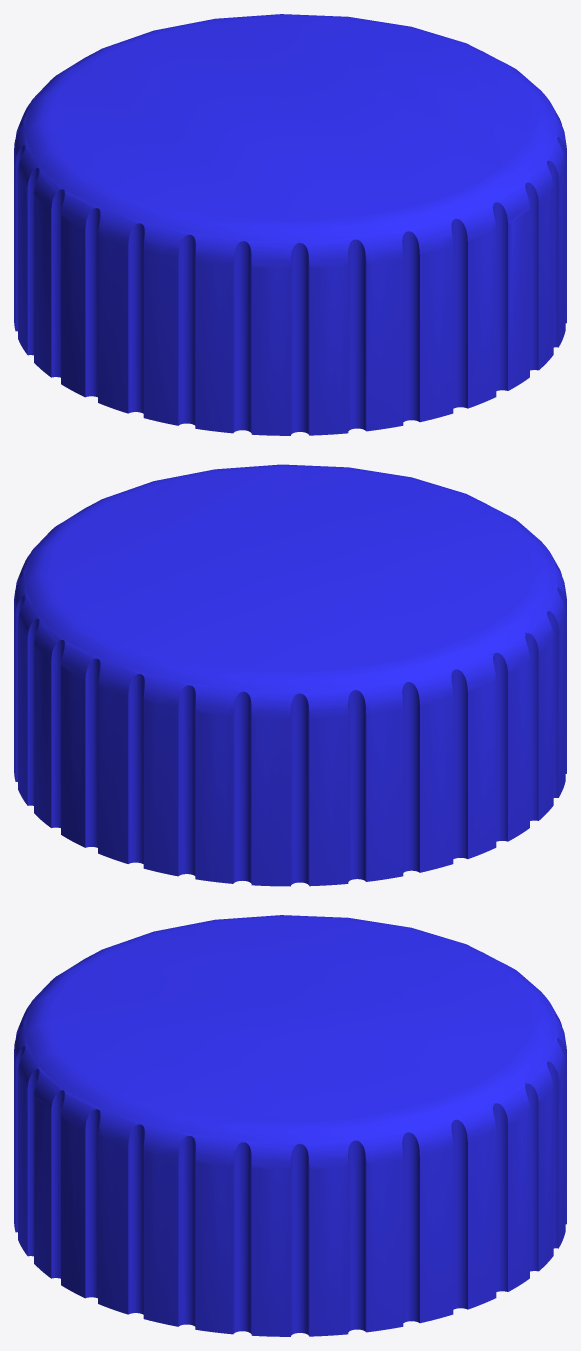
Rendered from cap.obj.
The picture shows the model from 3 angles, top to bottom: view 1: azimuth 30°, elevation 25°; view 2: azimuth 150°, elevation 25°; view 3: azimuth 270°, elevation 25°; orthographic projection.
Visible parts, largest first — view 1: Grupo_2/mesh626/mesh626-geometry#mesh626-geometry; view 2: Grupo_2/mesh626/mesh626-geometry#mesh626-geometry; view 3: Grupo_2/mesh626/mesh626-geometry#mesh626-geometry.
Part boxes in pixels (x1,y1,x2,y2): Grupo_2/mesh626/mesh626-geometry#mesh626-geometry: [14, 14, 566, 435]; Grupo_2/mesh626/mesh626-geometry#mesh626-geometry: [14, 464, 566, 886]; Grupo_2/mesh626/mesh626-geometry#mesh626-geometry: [14, 915, 566, 1336].
Bounding box in the file's own units: 0.1714 × 0.0686 × 0.1714.
